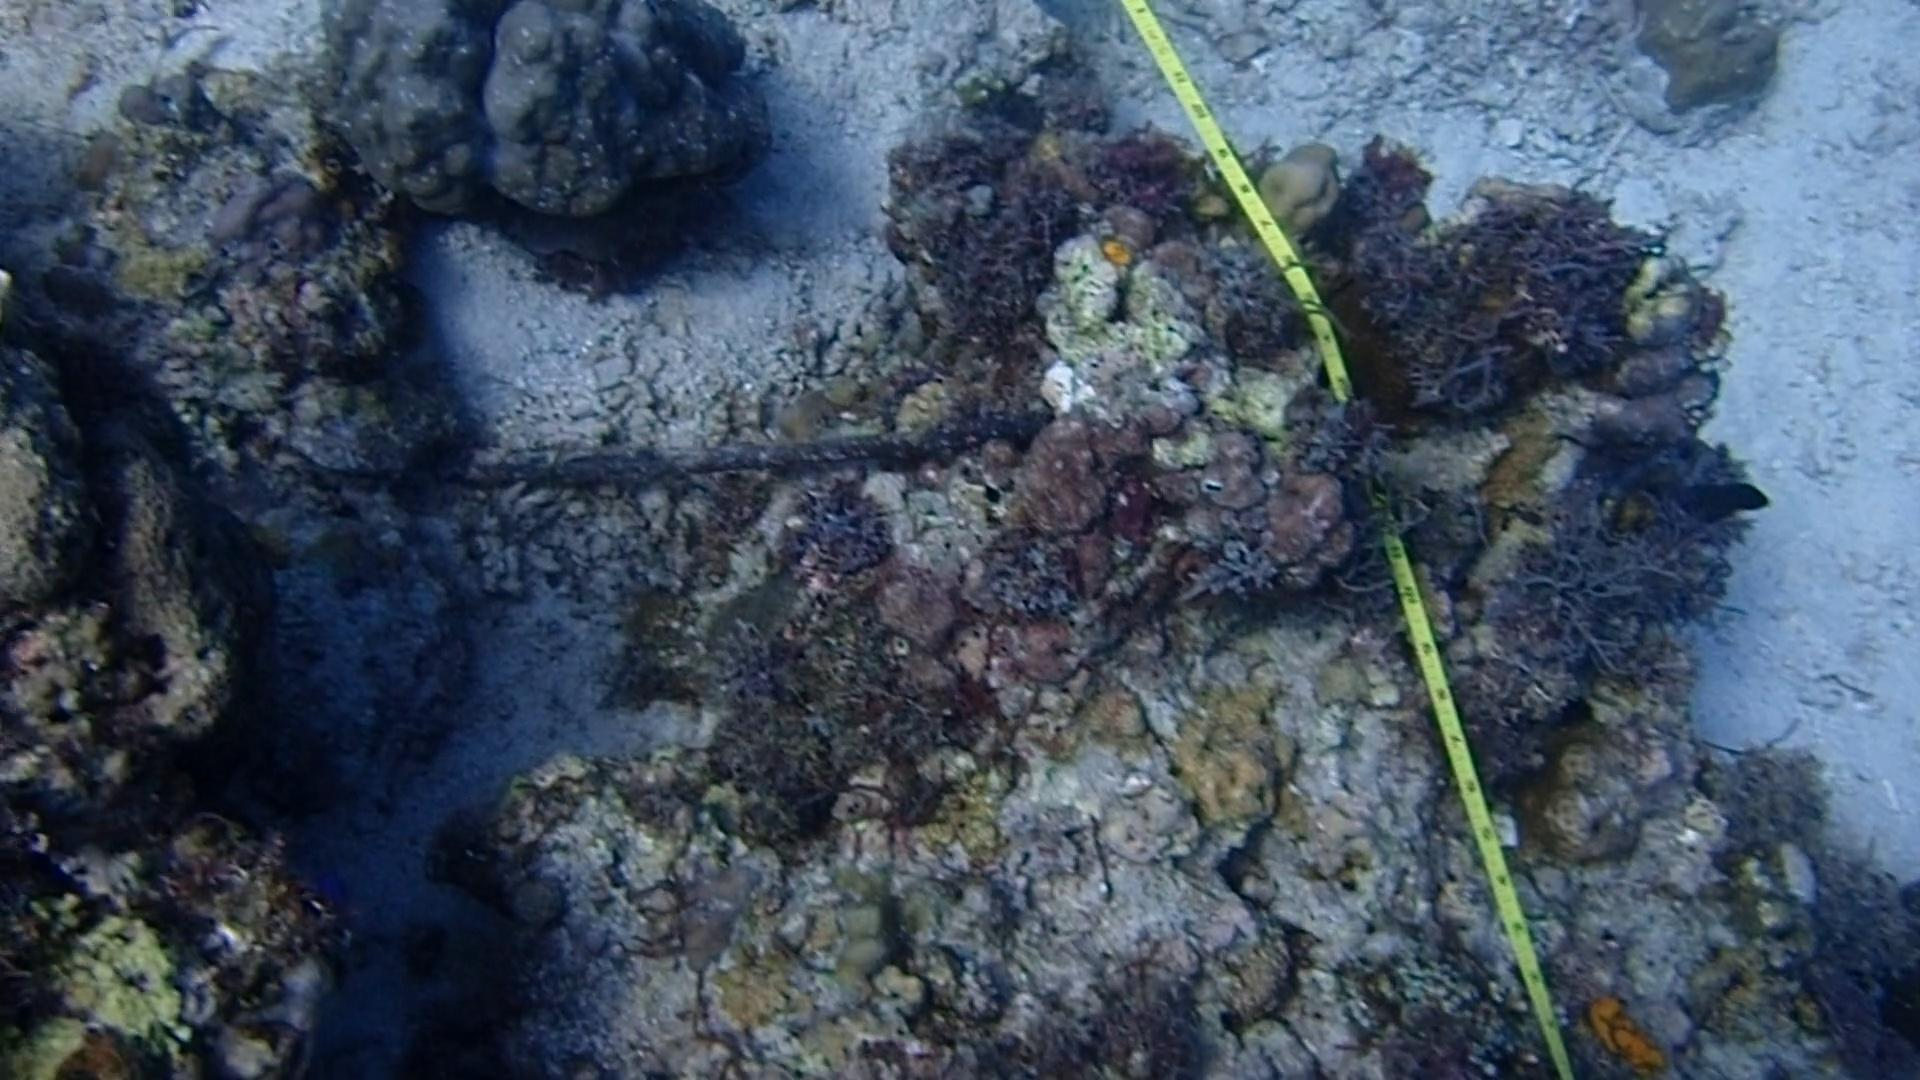Dark Fish: (1660, 454, 1783, 549)
